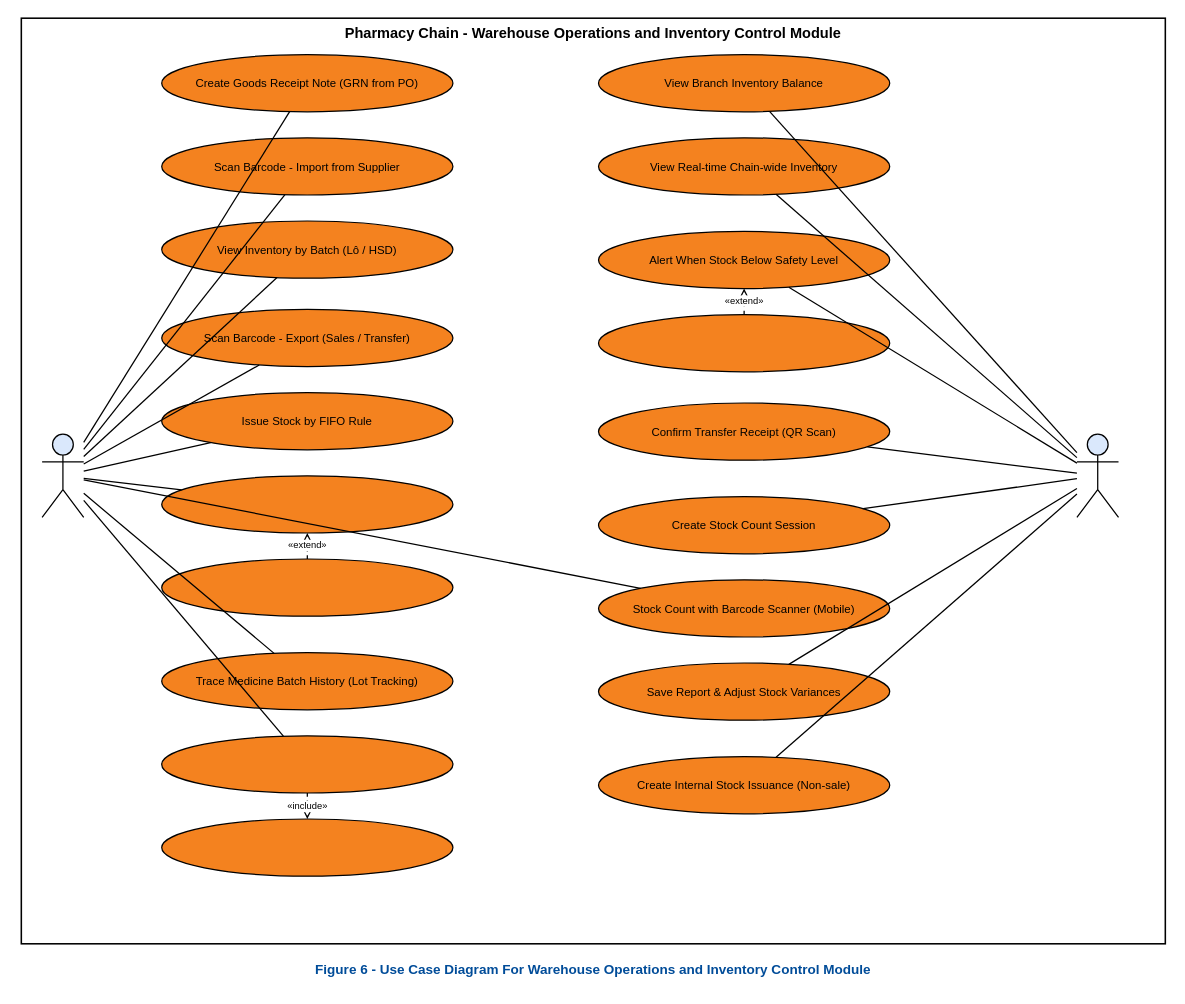
Image size: 1185x1004. Some labels were removed from this diagram. Here are the shapes that lost their labels. From the top down, the box of each, then its label:
(597, 313, 890, 372): Alert Negative / Abnormal Stock Variance
(41, 433, 84, 518): Warehouse Staff
(1076, 433, 1119, 518): Branch Manager
(161, 475, 453, 533): Alert Near-expiry Batches (Red/Yellow/Green)
(161, 558, 453, 616): Propose Near-expiry Handling Action
(161, 735, 453, 793): 2D Warehouse Storage Map
(161, 818, 453, 876): Manage Shelf Locations (Vị trí kho)
